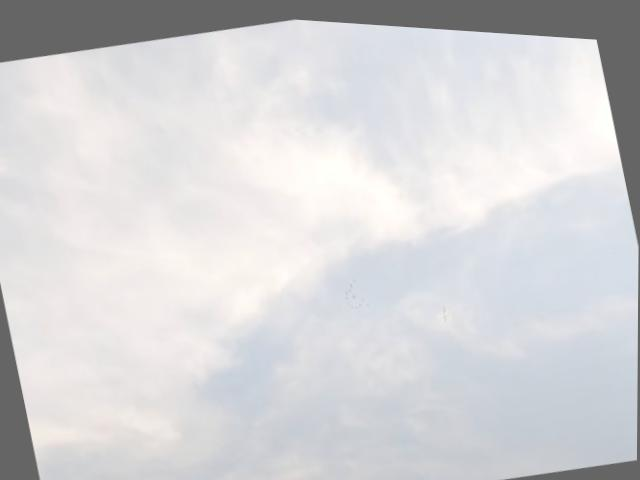iha: (438, 300, 450, 318)
